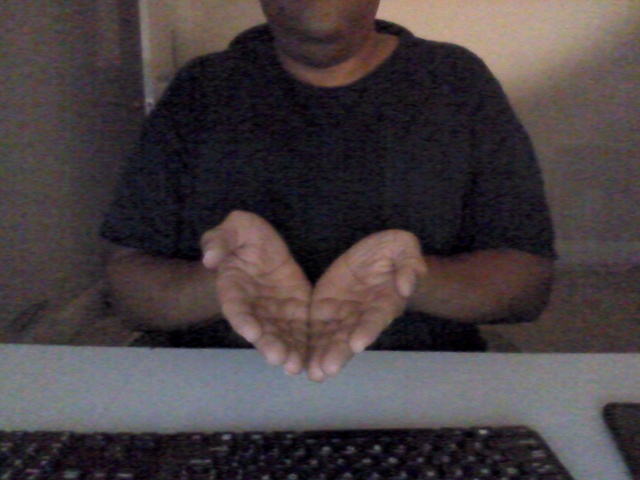book: (195, 210, 435, 389)
